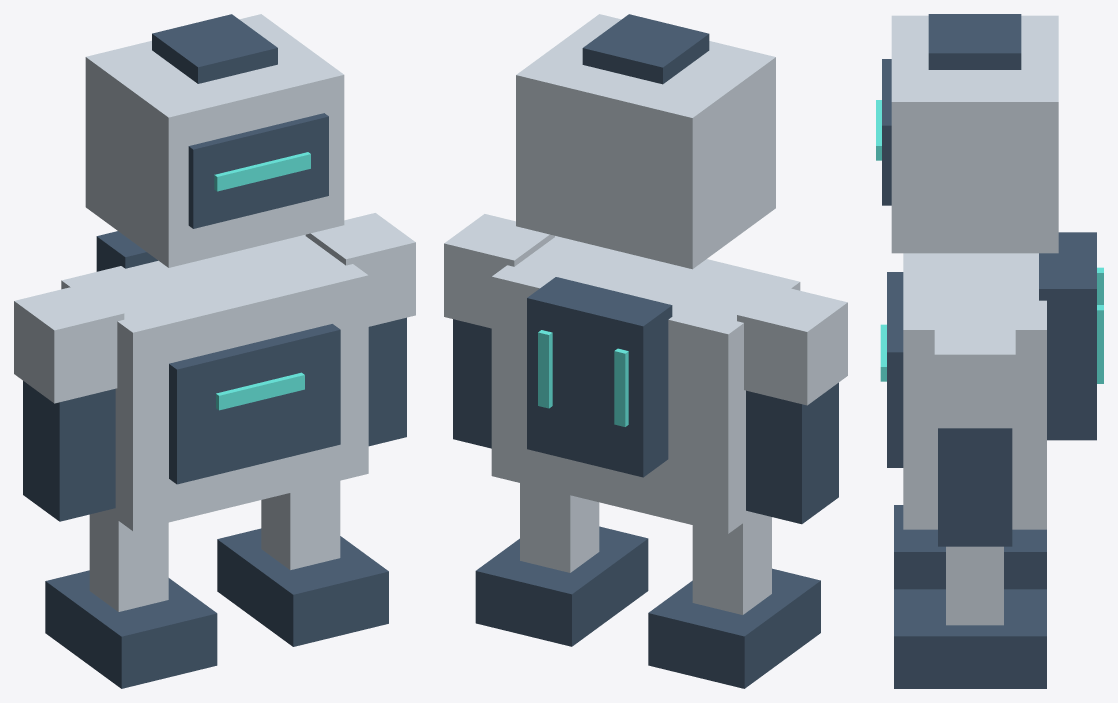
File: neon-robot.glb
The picture shows the model from 3 angles, left to right: view 1: azimuth 30°, elevation 25°; view 2: azimuth 150°, elevation 25°; view 3: azimuth 270°, elevation 25°; orthographic projection.
Visible parts, largest first — view 1: torso, head, chest plate, left foot, right foot, left arm, left shoulder, visor, right shoulder, left leg, right leg, top cap (+4 smaller); view 2: head, torso, backpack, right foot, left foot, left arm, left shoulder, right shoulder, left leg, top cap, right leg, right arm (+2 smaller); view 3: head, torso, right foot, backpack, right shoulder, right arm, left foot, top cap, right leg, chest plate, visor, pack light right (+2 smaller).
Part boxes in pixels (left/top/right/bottom): torso: left=61, top=234, right=368, bottom=530; head: left=85, top=14, right=344, bottom=267; chest plate: left=169, top=324, right=340, bottom=484; left foot: left=45, top=570, right=217, bottom=688; right foot: left=217, top=528, right=388, bottom=646; left arm: left=23, top=381, right=115, bottom=521; left shoulder: left=14, top=284, right=124, bottom=403; visor: left=188, top=113, right=328, bottom=228; right shoulder: left=305, top=213, right=415, bottom=326; left leg: left=89, top=511, right=168, bottom=611; right leg: left=261, top=481, right=340, bottom=570; top cap: left=152, top=14, right=277, bottom=83; head: left=516, top=14, right=775, bottom=269; torso: left=491, top=236, right=800, bottom=533; backpack: left=527, top=277, right=672, bottom=477; right foot: left=475, top=526, right=648, bottom=646; left foot: left=648, top=568, right=820, bottom=688; left arm: left=746, top=382, right=838, bottom=524; left shoulder: left=737, top=285, right=847, bottom=405; right shoulder: left=444, top=214, right=554, bottom=328; left leg: left=692, top=513, right=771, bottom=614; top cap: left=582, top=14, right=709, bottom=84; right leg: left=520, top=483, right=599, bottom=572; right arm: left=453, top=319, right=491, bottom=448; head: left=891, top=15, right=1058, bottom=253; torso: left=903, top=253, right=1046, bottom=529; right foot: left=894, top=589, right=1046, bottom=688; backpack: left=1039, top=232, right=1096, bottom=440; right shoulder: left=934, top=320, right=1015, bottom=428; right arm: left=938, top=428, right=1012, bottom=546; left foot: left=894, top=505, right=1046, bottom=589; top cap: left=928, top=14, right=1021, bottom=69; right leg: left=946, top=546, right=1003, bottom=625; chest plate: left=887, top=272, right=903, bottom=467; visor: left=882, top=59, right=891, bottom=205; pack light right: left=1097, top=305, right=1103, bottom=383.
Size of the model in its own units: 1.81 by 2.8 by 0.9815.
